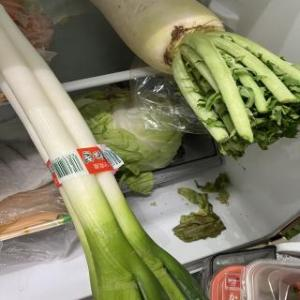cabbage: (63, 85, 187, 189)
onion: (0, 0, 212, 300)
